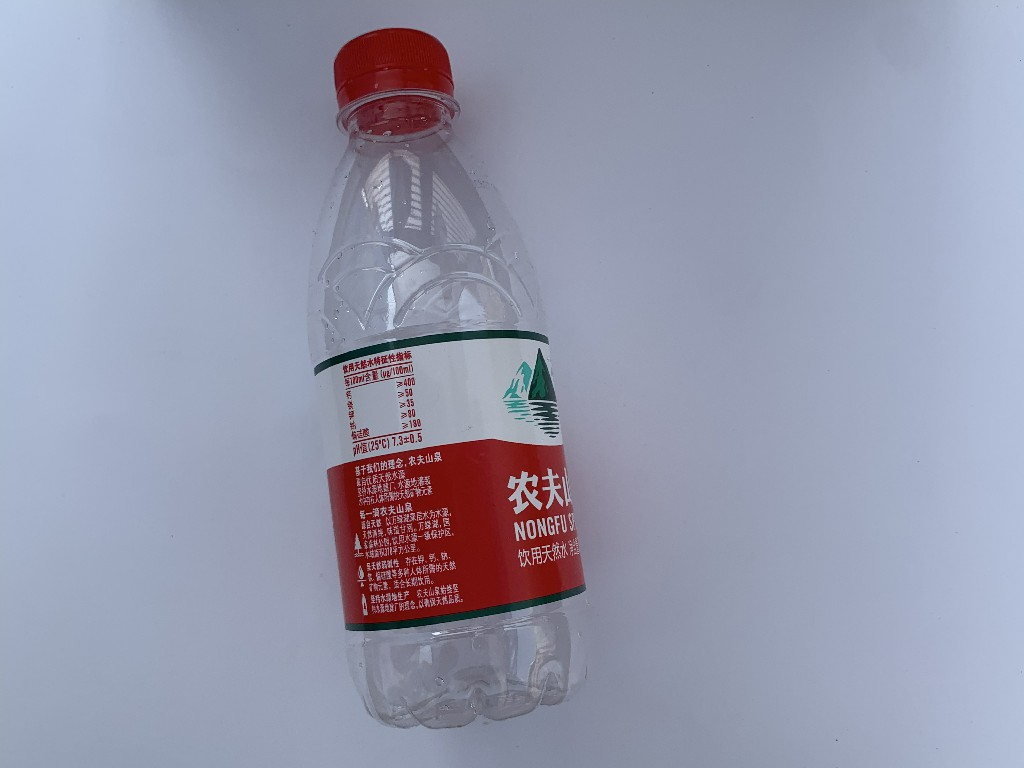bottle: (295, 26, 606, 735)
